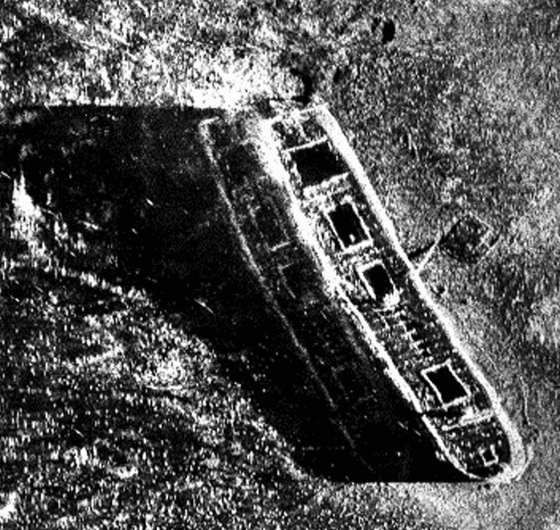ship: (198, 96, 530, 486)
